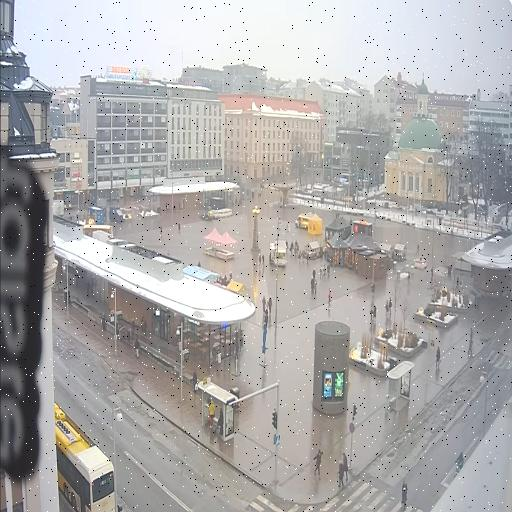bus: (55, 402, 115, 511)
